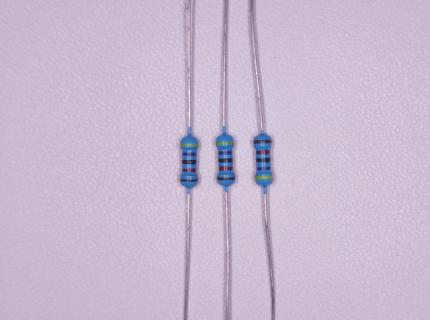Black band: (182, 159, 197, 165), (218, 158, 233, 163), (256, 158, 271, 163)
Brown band: (253, 139, 273, 144), (180, 178, 199, 183), (217, 176, 235, 181)
Red band: (256, 149, 271, 156), (219, 166, 233, 171), (182, 168, 196, 173)
Violet band: (257, 166, 271, 171), (182, 152, 197, 156), (218, 151, 232, 155)
Yellow band: (180, 143, 199, 147), (255, 176, 273, 180), (216, 142, 234, 145)
